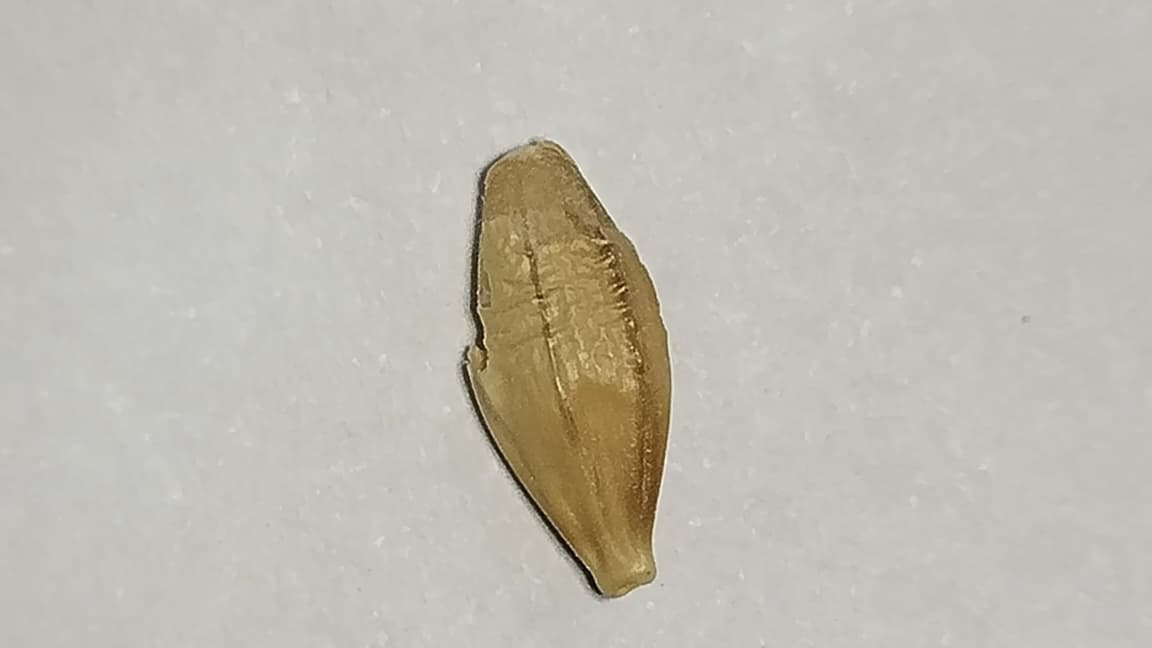damage: (465, 141, 670, 595)
insectdamage: (457, 285, 488, 421)
shriveledseed: (520, 211, 602, 497), (572, 223, 640, 360)
